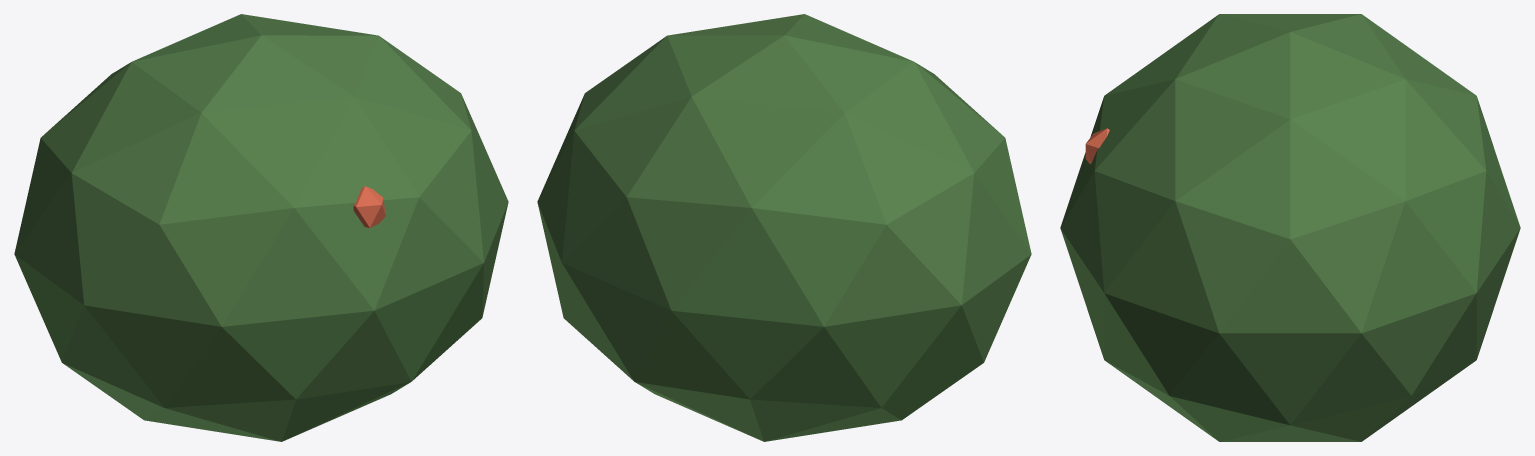
File: prop_berries.glb
3 renders of one model, left to right at view 1: azimuth 30°, elevation 25°; view 2: azimuth 150°, elevation 25°; view 3: azimuth 270°, elevation 25°, orthographic.
Parts seen in each view (by area): view 1: Geometry; view 2: Geometry; view 3: Geometry.
Boxes of the visible parts, left/top/right/bottom form: Geometry: left=14, top=14, right=508, bottom=441; Geometry: left=537, top=14, right=1031, bottom=441; Geometry: left=1060, top=14, right=1520, bottom=441.
Size of the model in its own units: 1.08 by 0.94 by 1.
